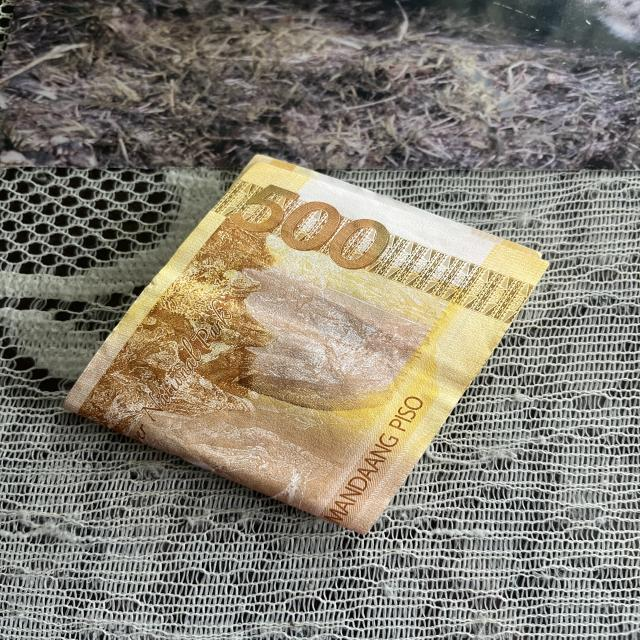value: (233, 178, 390, 273)
